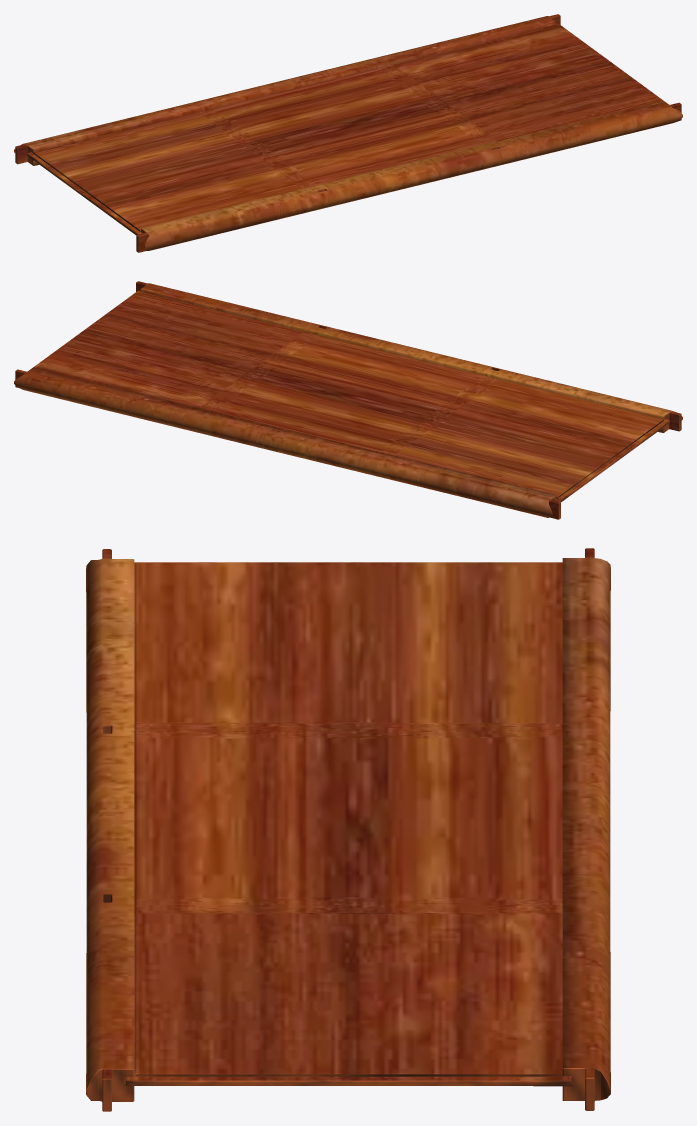
The model's file is SJ_J_H_cengban_02.FBX.
3 views of the same model, one above another, from view 1: azimuth 30°, elevation 25°; view 2: azimuth 150°, elevation 25°; view 3: azimuth 270°, elevation 25° (orthographic). The views are drawn at different scales.
Parts seen in each view (by area): view 1: SJ_J_H_cengban_02; view 2: SJ_J_H_cengban_02; view 3: SJ_J_H_cengban_02.
Part boxes in pixels (<box>): SJ_J_H_cengban_02: <box>14,14,682,252</box>; SJ_J_H_cengban_02: <box>14,281,682,519</box>; SJ_J_H_cengban_02: <box>86,548,610,1111</box>.
Size of the model in its own units: 103 by 3.05 by 42.99.
